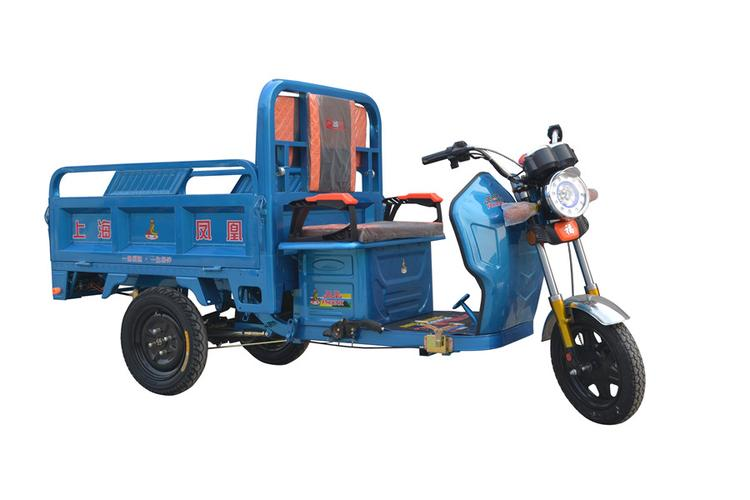empty: (24, 16, 662, 445)
